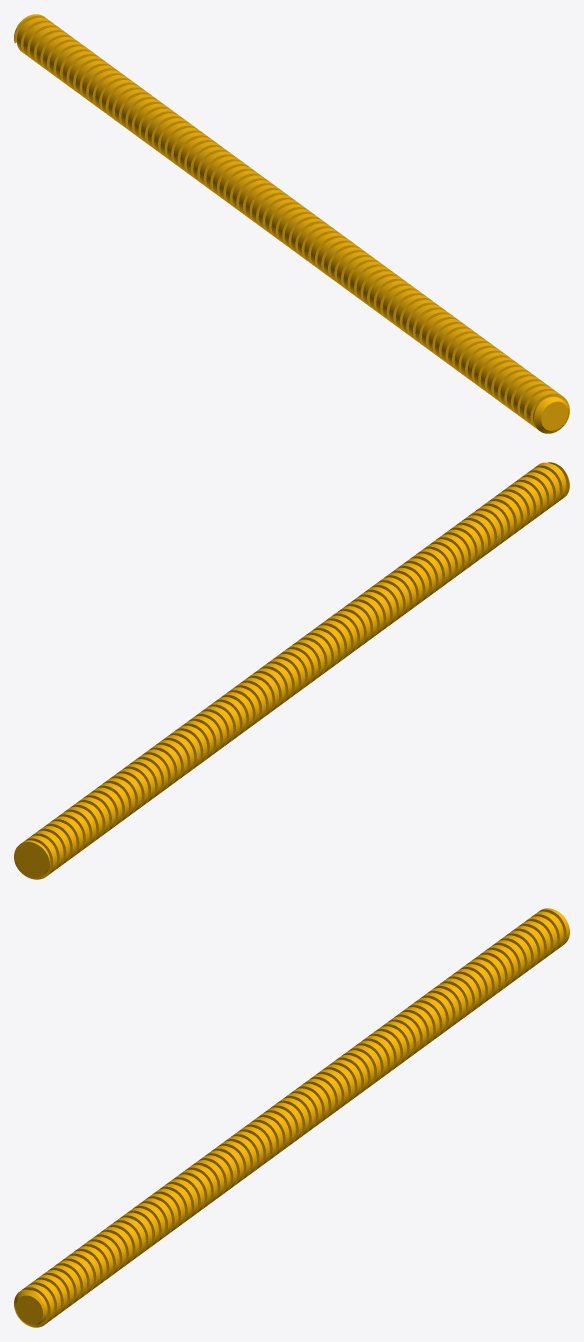
The model's file is Lead_Screw_8mm_Threaded_Rod_Trapezoidal_Z_Axis.obj.
3 views of the same model, one above another, from view 1: azimuth 30°, elevation 25°; view 2: azimuth 150°, elevation 25°; view 3: azimuth 330°, elevation 25° (orthographic).
Visible parts, largest first — view 1: mesh4833, mesh4836, mesh4834, mesh4831; view 2: mesh4833, mesh4835, mesh4834, mesh4837; view 3: mesh4833, mesh4836, mesh4834, mesh4831.
Boxes of the visible parts, x1=… form: mesh4833: x1=14, y1=14, x2=560, y2=429; mesh4836: x1=14, y1=15, x2=569, y2=431; mesh4834: x1=17, y1=20, x2=555, y2=414; mesh4831: x1=541, y1=401, x2=568, y2=430; mesh4833: x1=21, y1=462, x2=569, y2=874; mesh4835: x1=15, y1=462, x2=568, y2=879; mesh4834: x1=37, y1=465, x2=565, y2=873; mesh4837: x1=14, y1=842, x2=50, y2=877; mesh4833: x1=24, y1=908, x2=569, y2=1323; mesh4836: x1=22, y1=909, x2=566, y2=1326; mesh4834: x1=30, y1=914, x2=563, y2=1321; mesh4831: x1=16, y1=1295, x2=42, y2=1324.
Size of the model in its own units: 0.008 by 0.008 by 0.2.
